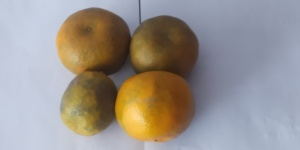BAD: (113, 72, 196, 143), (55, 8, 130, 76), (133, 14, 199, 80), (60, 69, 121, 140)
